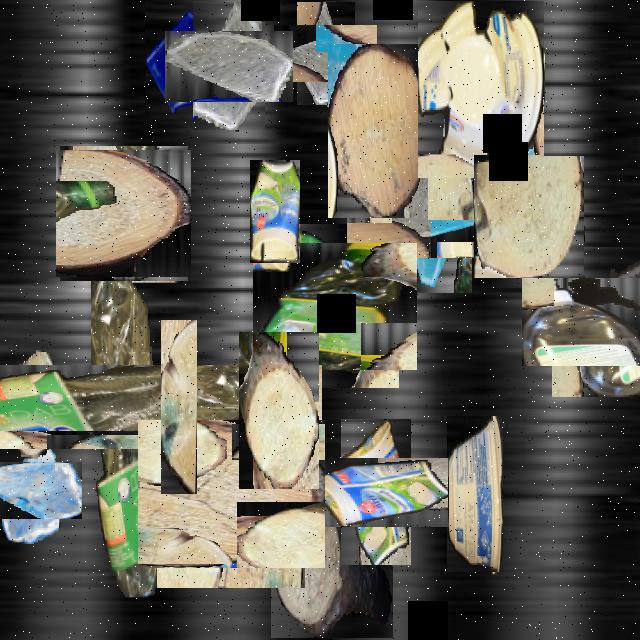glass: (364, 151, 490, 276), (428, 54, 522, 220), (179, 16, 279, 116), (145, 1, 209, 116), (286, 13, 366, 94), (0, 450, 71, 530)
plastic: (18, 292, 248, 522), (418, 2, 544, 180), (262, 233, 408, 379), (536, 262, 640, 381), (322, 438, 430, 546), (447, 416, 503, 572), (250, 160, 300, 263)
wood: (147, 410, 315, 578), (271, 496, 393, 638), (328, 45, 428, 218), (58, 148, 190, 279), (474, 156, 584, 278), (239, 332, 319, 489), (161, 320, 197, 494), (9, 350, 57, 457)
